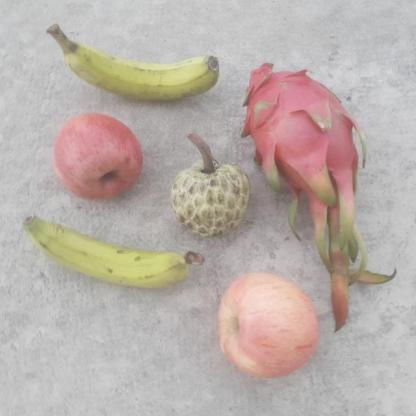annona: (166, 158, 252, 244)
apple: (217, 271, 319, 381), (50, 112, 146, 200)
banana: (46, 23, 224, 104), (21, 215, 188, 288)
pitaya: (243, 63, 373, 204)
